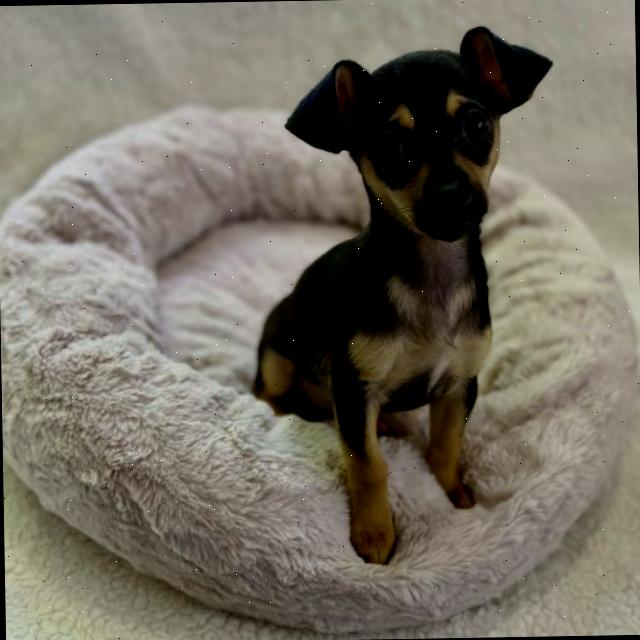chihuahua_dog: (278, 13, 560, 258)
